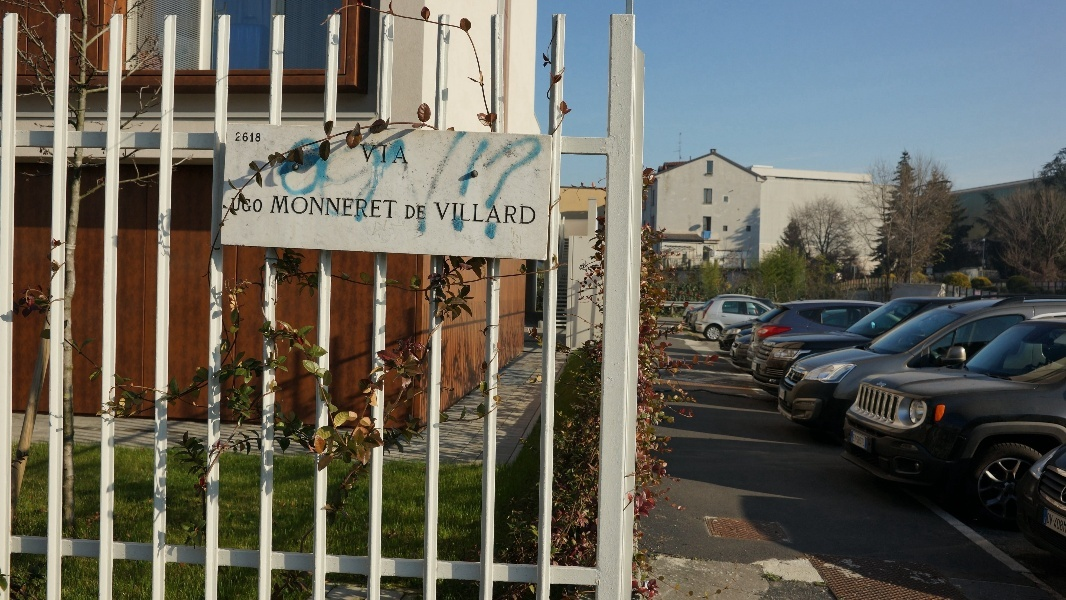text: (273, 195, 288, 219), (289, 195, 304, 219), (305, 195, 320, 219), (321, 195, 336, 219), (337, 195, 352, 219), (353, 195, 368, 219), (369, 195, 384, 219), (433, 202, 448, 226), (449, 202, 464, 226), (465, 202, 480, 226), (481, 202, 496, 226), (497, 202, 512, 226), (513, 202, 528, 226), (369, 144, 384, 165), (385, 144, 400, 165), (385, 195, 398, 219), (241, 198, 256, 213), (359, 144, 368, 165), (529, 202, 536, 226), (401, 144, 409, 165), (405, 205, 416, 220), (241, 132, 256, 143), (417, 205, 427, 220), (852, 435, 864, 447), (232, 198, 240, 213), (257, 198, 263, 213), (236, 132, 240, 143), (257, 132, 261, 143), (865, 435, 866, 447)
